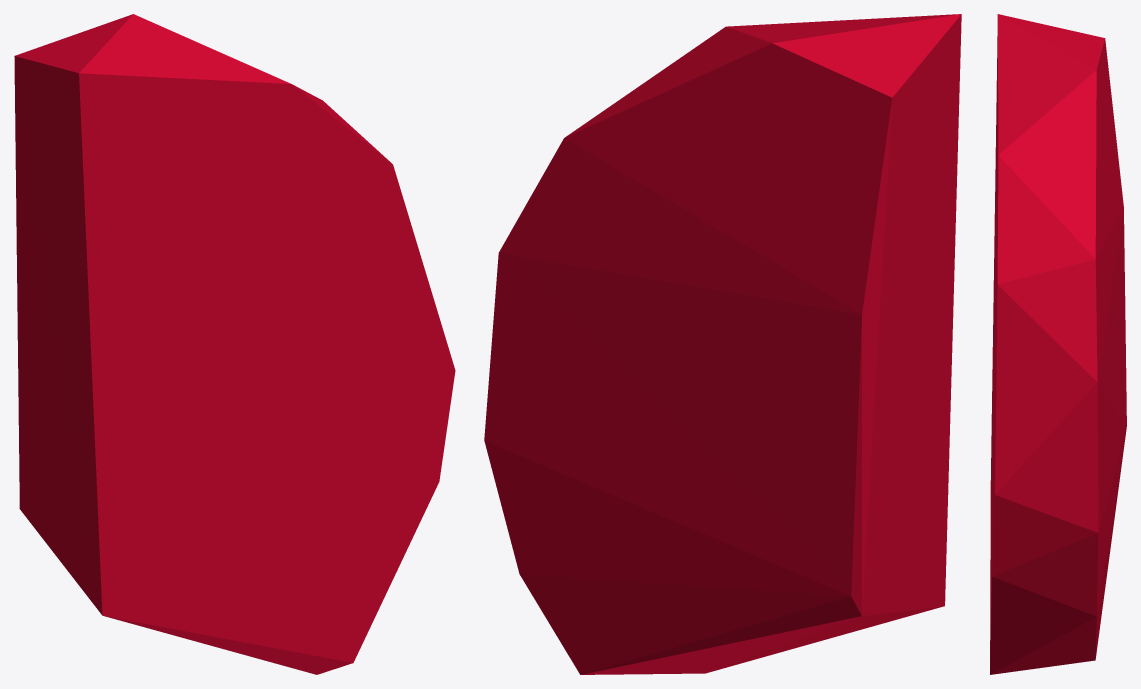
File: hip-pitch_convex_piece_002.obj
3 renders of one model, left to right at view 1: azimuth 30°, elevation 25°; view 2: azimuth 150°, elevation 25°; view 3: azimuth 270°, elevation 25°, orthographic. The views are drawn at different scales.
Size of the model in its own units: 0.0684 by 0.1143 by 0.0256.
